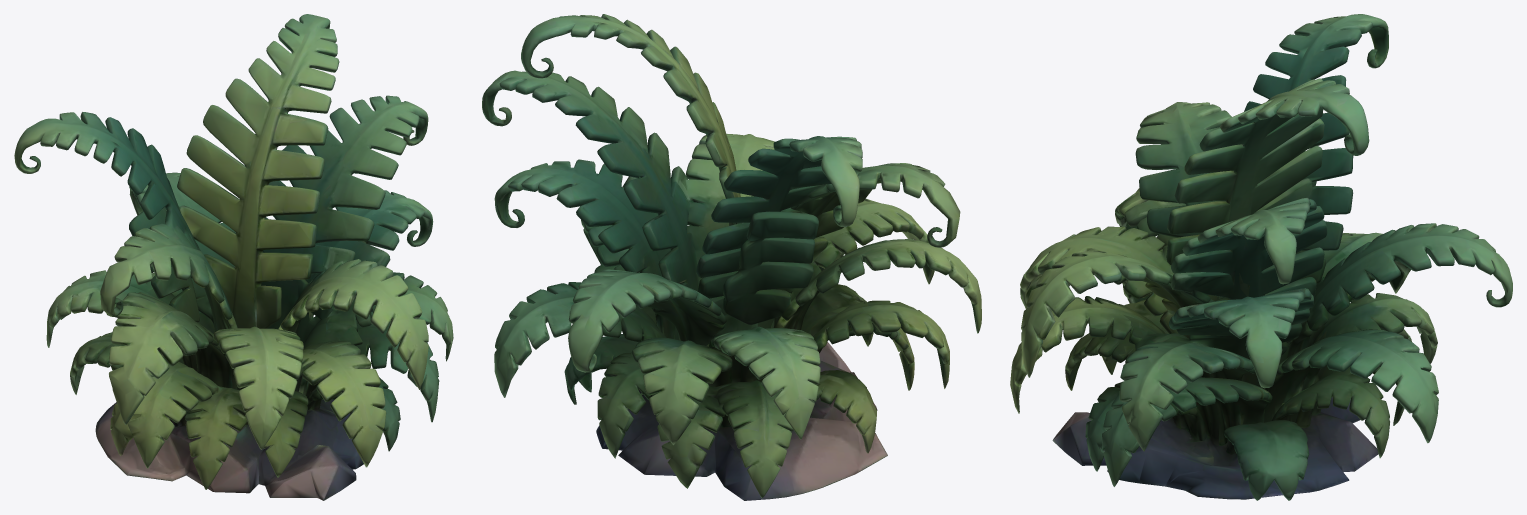
File: fren4.opt.glb
3 views of the same model, side by side, from view 1: azimuth 30°, elevation 25°; view 2: azimuth 150°, elevation 25°; view 3: azimuth 270°, elevation 25° (orthographic). The views are drawn at different scales.
Parts seen in each view (by area): view 1: node_0; view 2: node_0; view 3: node_0.
Boxes of the visible parts, left/top/right/bottom form: node_0: left=14, top=14, right=453, bottom=500; node_0: left=482, top=14, right=981, bottom=500; node_0: left=1010, top=14, right=1512, bottom=500.
Bounding box in the file's own units: 0.9474 × 0.8771 × 0.9804.
1 material, 1 textured.
